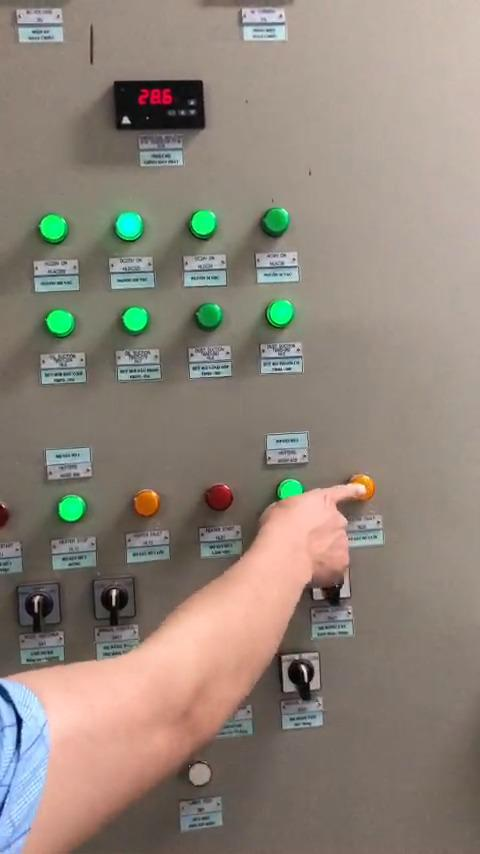led: (185, 208, 220, 241), (274, 472, 306, 503), (203, 481, 233, 514), (37, 210, 68, 241), (262, 205, 293, 235), (58, 491, 88, 521), (347, 468, 376, 499), (120, 305, 150, 334), (132, 489, 161, 519), (115, 211, 144, 240), (197, 301, 226, 330), (44, 306, 73, 335), (267, 296, 295, 325)
twist: (17, 579, 62, 629), (90, 574, 136, 621), (282, 651, 321, 694)
